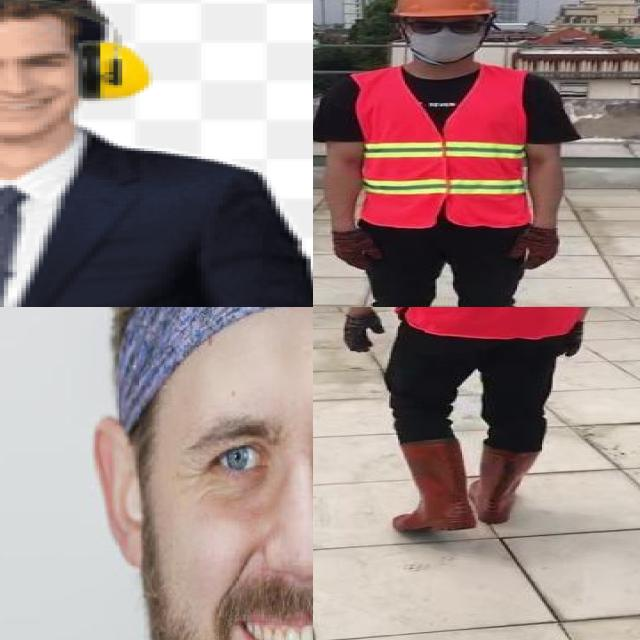Ear-protection: (0, 0, 183, 109)
boots: (396, 439, 476, 532), (471, 447, 542, 523)
face_mask: (397, 12, 491, 62)
face_nomask: (174, 406, 313, 640)
glasses: (405, 15, 487, 37)
hand_glove: (332, 229, 382, 269), (512, 229, 560, 269), (343, 313, 385, 352), (560, 321, 588, 357)
head_helmet: (393, 0, 494, 19)
person: (313, 0, 569, 307), (325, 307, 632, 542)
vest: (350, 67, 531, 225)
